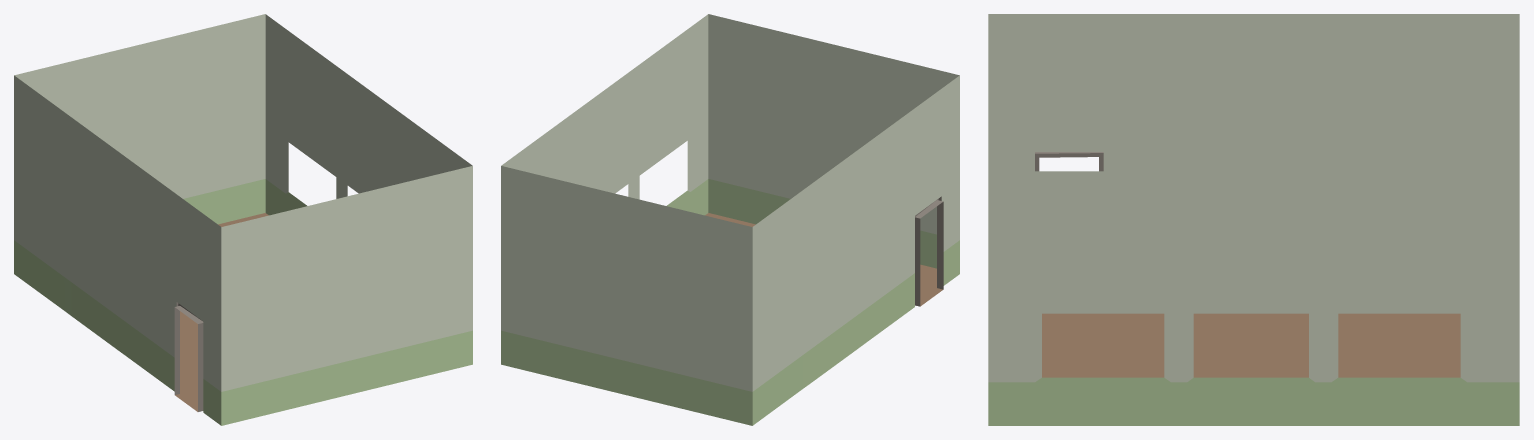
Rendered from Sala_V1.fbx.
3 renders of one model, left to right at view 1: azimuth 30°, elevation 25°; view 2: azimuth 150°, elevation 25°; view 3: azimuth 270°, elevation 25°, orthographic. The views are drawn at different scales.
Parts seen in each view (by area): view 1: Sala; view 2: Sala; view 3: Sala.
Boxes of the visible parts, x1,y1,x2,y2 form: Sala: [14, 14, 472, 425]; Sala: [501, 14, 959, 425]; Sala: [988, 14, 1519, 425].
Size of the model in its own units: 854 by 637 by 1204.
